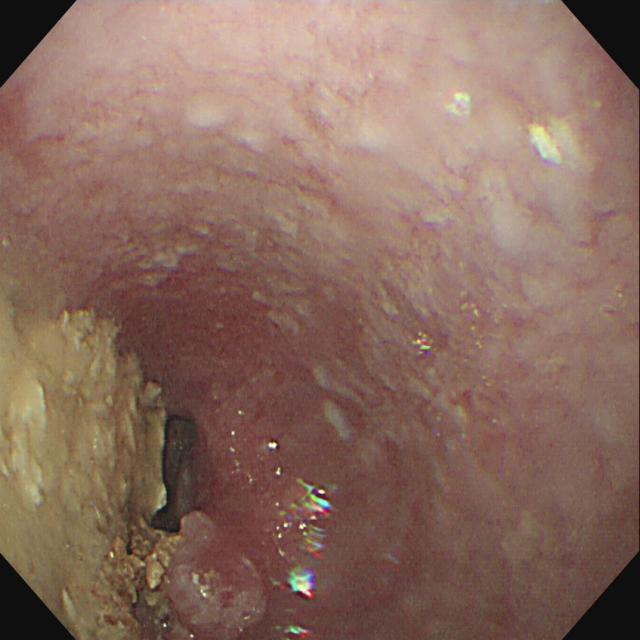B: (2, 279, 181, 640), (173, 513, 271, 638)
U: (279, 482, 331, 601)
